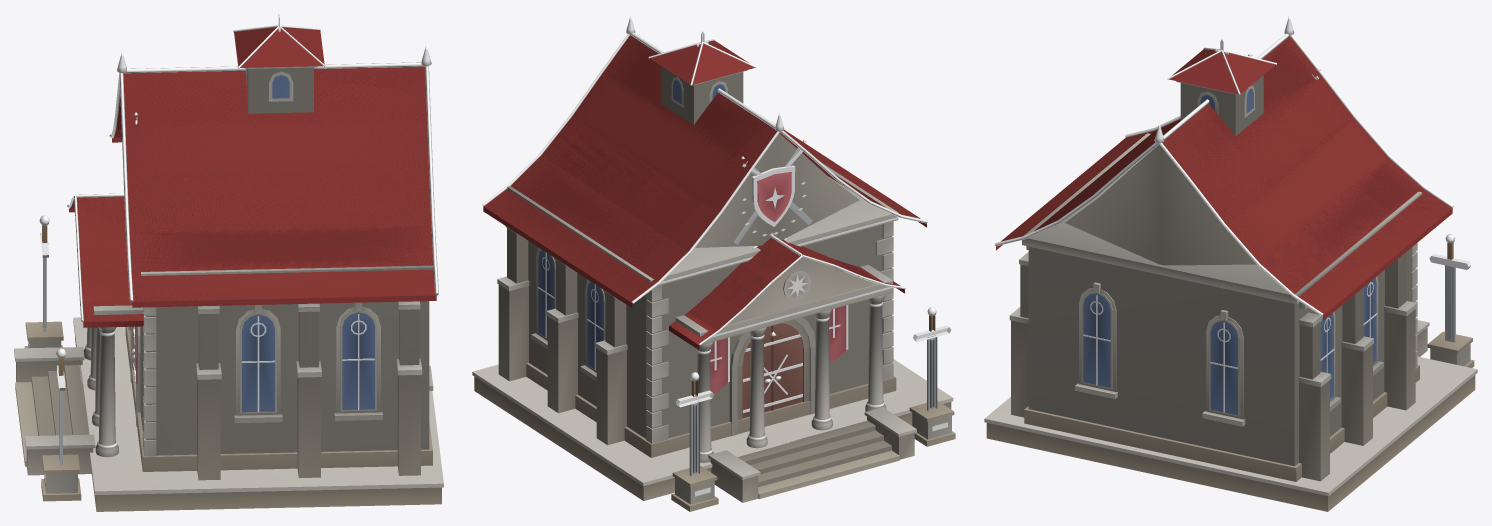
Rendered from sword_hq.glb.
3 renders of one model, left to right at view 1: azimuth 30°, elevation 25°; view 2: azimuth 150°, elevation 25°; view 3: azimuth 270°, elevation 25°, orthographic. The views are drawn at different scales.
Parts seen in each view (by area): view 1: Sword_stone, Sword_roof, Sword_props, Sword_gold; view 2: Sword_stone, Sword_roof, Sword_props, Sword_gold; view 3: Sword_stone, Sword_roof, Sword_props, Sword_gold.
Part boxes in pixels (box(x1,y1,x2,y2)): Sword_stone: box(14, 66, 443, 511); Sword_roof: box(69, 27, 436, 327); Sword_props: box(42, 69, 374, 464); Sword_gold: box(28, 14, 438, 483); Sword_stone: box(472, 66, 955, 511); Sword_roof: box(483, 35, 926, 349); Sword_props: box(538, 80, 937, 475); Sword_gold: box(482, 14, 950, 496); Sword_stone: box(984, 75, 1477, 511); Sword_roof: box(996, 36, 1452, 320); Sword_props: box(1083, 74, 1455, 415); Sword_gold: box(995, 14, 1470, 412).
Bounding box in the file's own units: 15.31 × 12.99 × 15.19.
